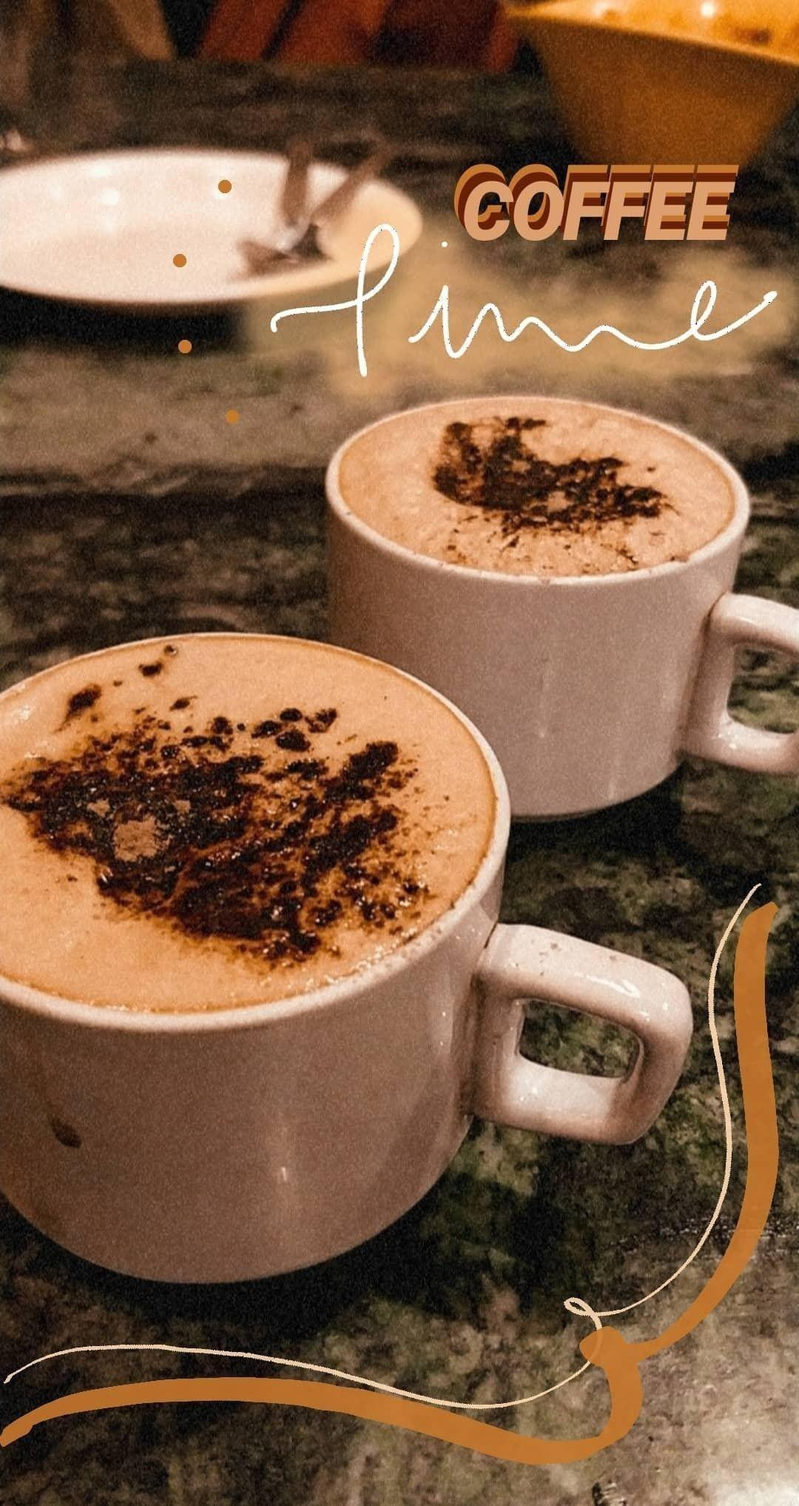cup-handle: (0, 628, 692, 1286), (321, 389, 798, 823)
